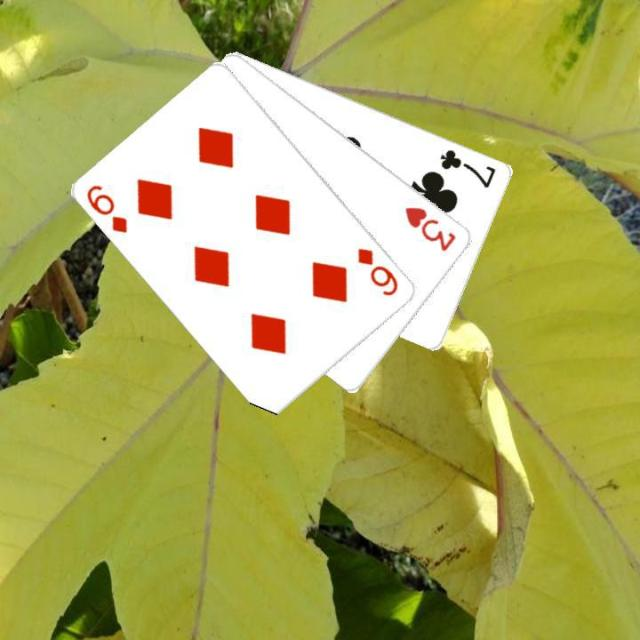3H: (401, 203, 459, 253)
6D: (82, 180, 130, 236), (354, 244, 401, 298)
7C: (436, 145, 498, 190)
